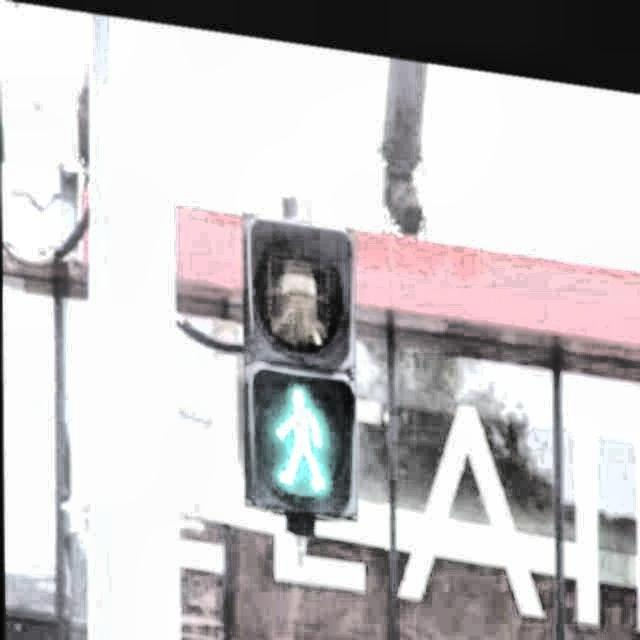semaforo pedestre: (122, 139, 483, 583)
